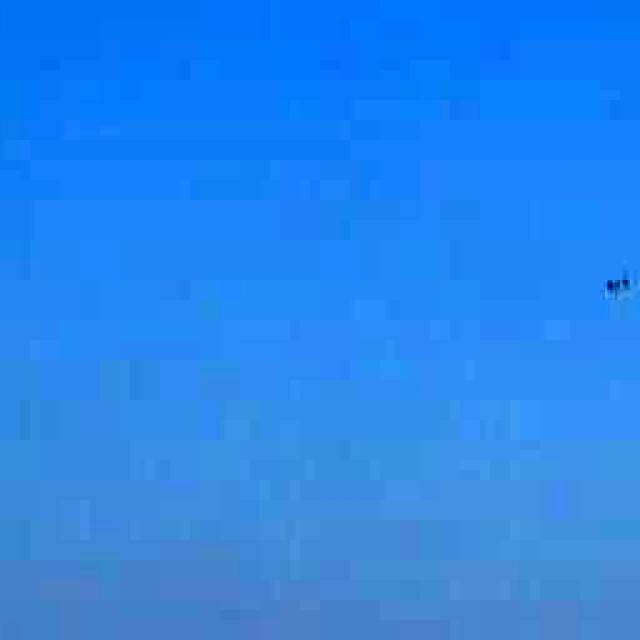bird: (590, 260, 640, 308)
